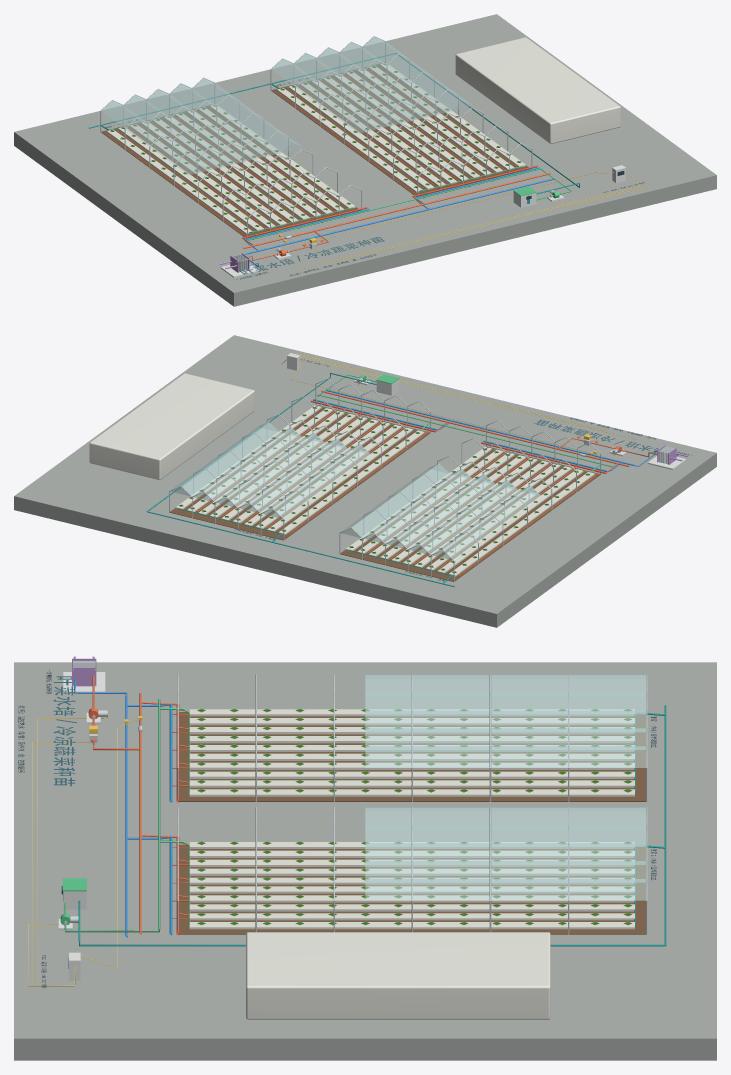
Rendered from AGRI_018.glb.
3 renders of one model, top to bottom at view 1: azimuth 30°, elevation 25°; view 2: azimuth 150°, elevation 25°; view 3: azimuth 270°, elevation 25°, orthographic. The views are drawn at different scales.
Visible parts, largest first — view 1: AGRI_018 | 场坪, 种苗包装棚, leaf | 种植地坪, leaf | 种植地坪.001, leaf | 玻璃屋面.005, leaf | 玻璃屋面.002, leaf | 玻璃屋面.007, leaf | 玻璃屋面, leaf | 玻璃屋面.008, leaf | 玻璃屋面.001, leaf | 玻璃屋面.004, leaf | 玻璃屋面.003 (+27 smaller); view 2: AGRI_018 | 场坪, 种苗包装棚, leaf | 种植地坪.001, leaf | 种植地坪, leaf | 玻璃屋面.007, leaf | 玻璃屋面.001, leaf | 玻璃屋面.008, leaf | 玻璃屋面.005, leaf | 玻璃屋面.004, leaf | 玻璃屋面.002, leaf | 玻璃屋面, leaf | 玻璃屋面.006 (+26 smaller); view 3: AGRI_018 | 场坪, 种苗包装棚, leaf | 种植地坪.001, leaf | 种植地坪, leaf | 玻璃屋面.004, leaf | 玻璃屋面.009, leaf | 玻璃屋面.001, leaf | 玻璃屋面.002, leaf | 玻璃屋面.003, leaf | 玻璃屋面.005, leaf | 玻璃屋面.006, leaf | 玻璃屋面 (+28 smaller).
Part boxes in pixels (left/top/right/bottom): AGRI_018 | 场坪: left=14, top=14, right=716, bottom=306; 种苗包装棚: left=455, top=37, right=620, bottom=143; leaf | 种植地坪: left=101, top=104, right=360, bottom=238; leaf | 种植地坪.001: left=271, top=62, right=530, bottom=196; leaf | 玻璃屋面.005: left=271, top=59, right=381, bottom=133; leaf | 玻璃屋面.002: left=147, top=89, right=256, bottom=163; leaf | 玻璃屋面.007: left=317, top=48, right=426, bottom=122; leaf | 玻璃屋面: left=101, top=100, right=211, bottom=174; leaf | 玻璃屋面.008: left=340, top=42, right=450, bottom=116; leaf | 玻璃屋面.001: left=124, top=95, right=233, bottom=169; leaf | 玻璃屋面.004: left=193, top=78, right=302, bottom=152; leaf | 玻璃屋面.003: left=170, top=84, right=279, bottom=158; AGRI_018 | 场坪: left=14, top=335, right=716, bottom=627; 种苗包装棚: left=89, top=373, right=254, bottom=480; leaf | 种植地坪.001: left=170, top=405, right=429, bottom=540; leaf | 种植地坪: left=340, top=446, right=600, bottom=581; leaf | 玻璃屋面.007: left=216, top=433, right=325, bottom=507; leaf | 玻璃屋面.001: left=409, top=480, right=518, bottom=554; leaf | 玻璃屋面.008: left=193, top=427, right=302, bottom=501; leaf | 玻璃屋面.005: left=262, top=444, right=371, bottom=518; leaf | 玻璃屋面.004: left=341, top=463, right=449, bottom=537; leaf | 玻璃屋面.002: left=387, top=474, right=495, bottom=548; leaf | 玻璃屋面: left=432, top=485, right=541, bottom=560; leaf | 玻璃屋面.006: left=239, top=438, right=348, bottom=512; AGRI_018 | 场坪: left=14, top=662, right=716, bottom=1060; 种苗包装棚: left=246, top=932, right=550, bottom=1019; leaf | 种植地坪.001: left=179, top=844, right=645, bottom=934; leaf | 种植地坪: left=179, top=712, right=645, bottom=801; leaf | 玻璃屋面.004: left=365, top=746, right=645, bottom=767; leaf | 玻璃屋面.009: left=365, top=879, right=645, bottom=900; leaf | 玻璃屋面.001: left=365, top=692, right=645, bottom=710; leaf | 玻璃屋面.002: left=365, top=710, right=645, bottom=728; leaf | 玻璃屋面.003: left=365, top=728, right=645, bottom=746; leaf | 玻璃屋面.005: left=365, top=807, right=645, bottom=825; leaf | 玻璃屋面.006: left=365, top=825, right=645, bottom=843; leaf | 玻璃屋面: left=365, top=675, right=645, bottom=692.
Size of the model in its own units: 190 by 16.37 by 150.
